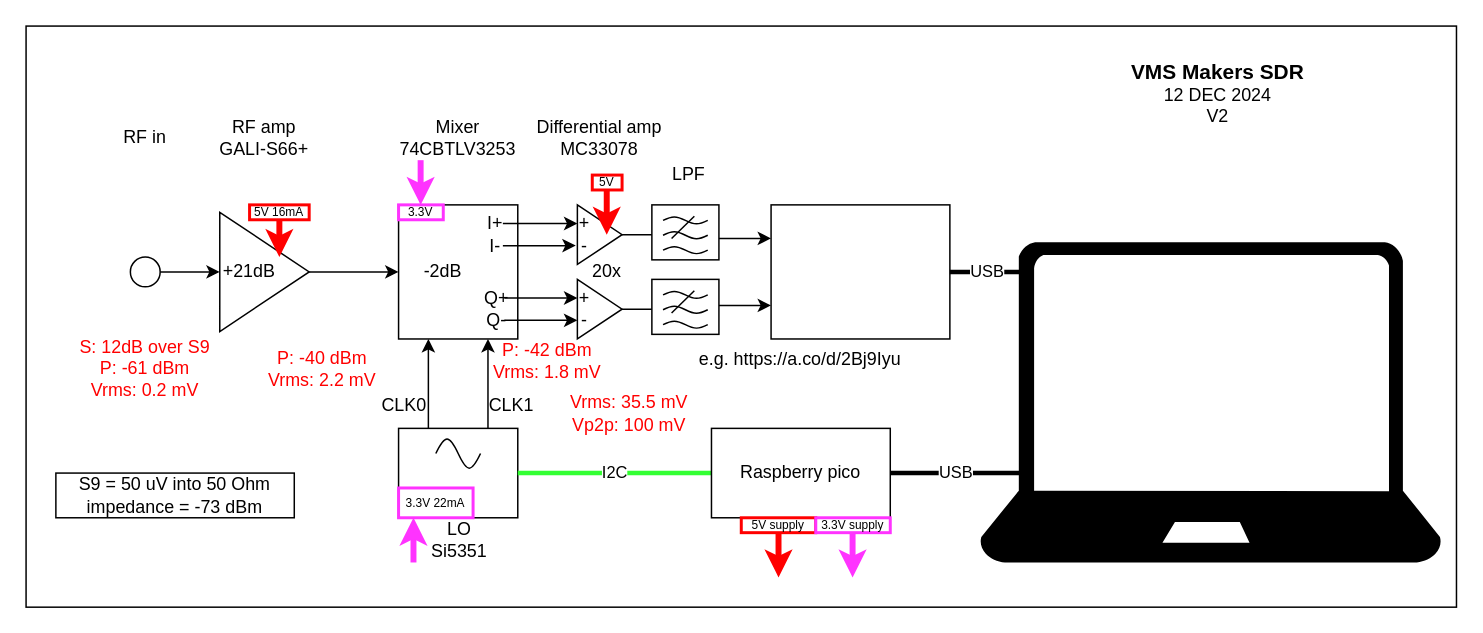
Image size: 1483x633. Some labels were removed from this diagram. The shapes that lost their labels are listed below. From the top down, each one's box as (x1, y1, x2, y2) in pixels, then its label:
(770, 203, 950, 339): USB Soundcard 48 ksps @ 16 bit Max 200 mV pk2pk DC block on input
(979, 241, 1441, 562): quisk
